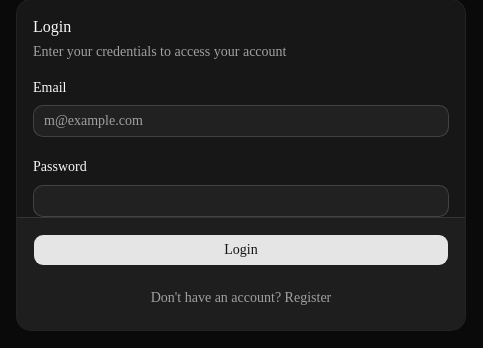
Test case: AuthForm › toggles to register form
The image size is (483, 348).
Click the button "Don't have an account? Register".
click(241, 298)  # box [140,282,342,314]
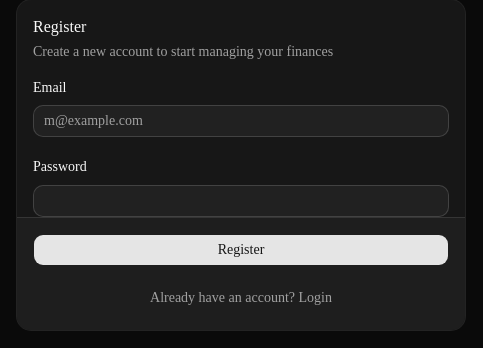
expect the heading "Register" is shown: met, box [33,18,86,35]
expect the button "Register" is shown: met, box [33,234,449,266]
